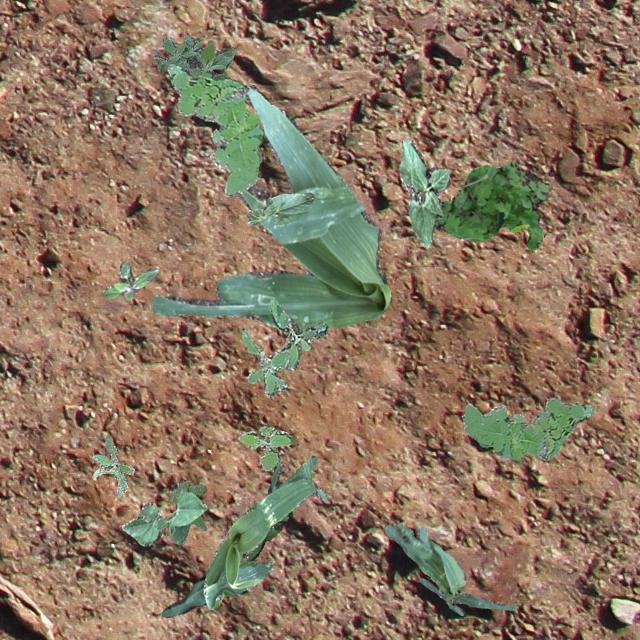crop: (152, 84, 390, 328), (160, 456, 288, 616), (202, 454, 326, 608), (384, 522, 514, 614), (398, 138, 448, 248), (120, 488, 206, 544), (245, 192, 312, 226)
weed: (166, 63, 262, 194), (432, 160, 548, 248), (240, 298, 328, 398), (462, 396, 594, 459), (152, 34, 248, 90), (91, 432, 133, 496), (238, 426, 292, 470), (100, 260, 156, 300), (170, 478, 206, 530)
